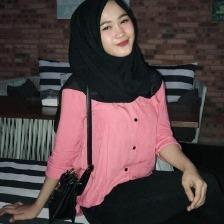Non Syar-i: (62, 0, 168, 104)
